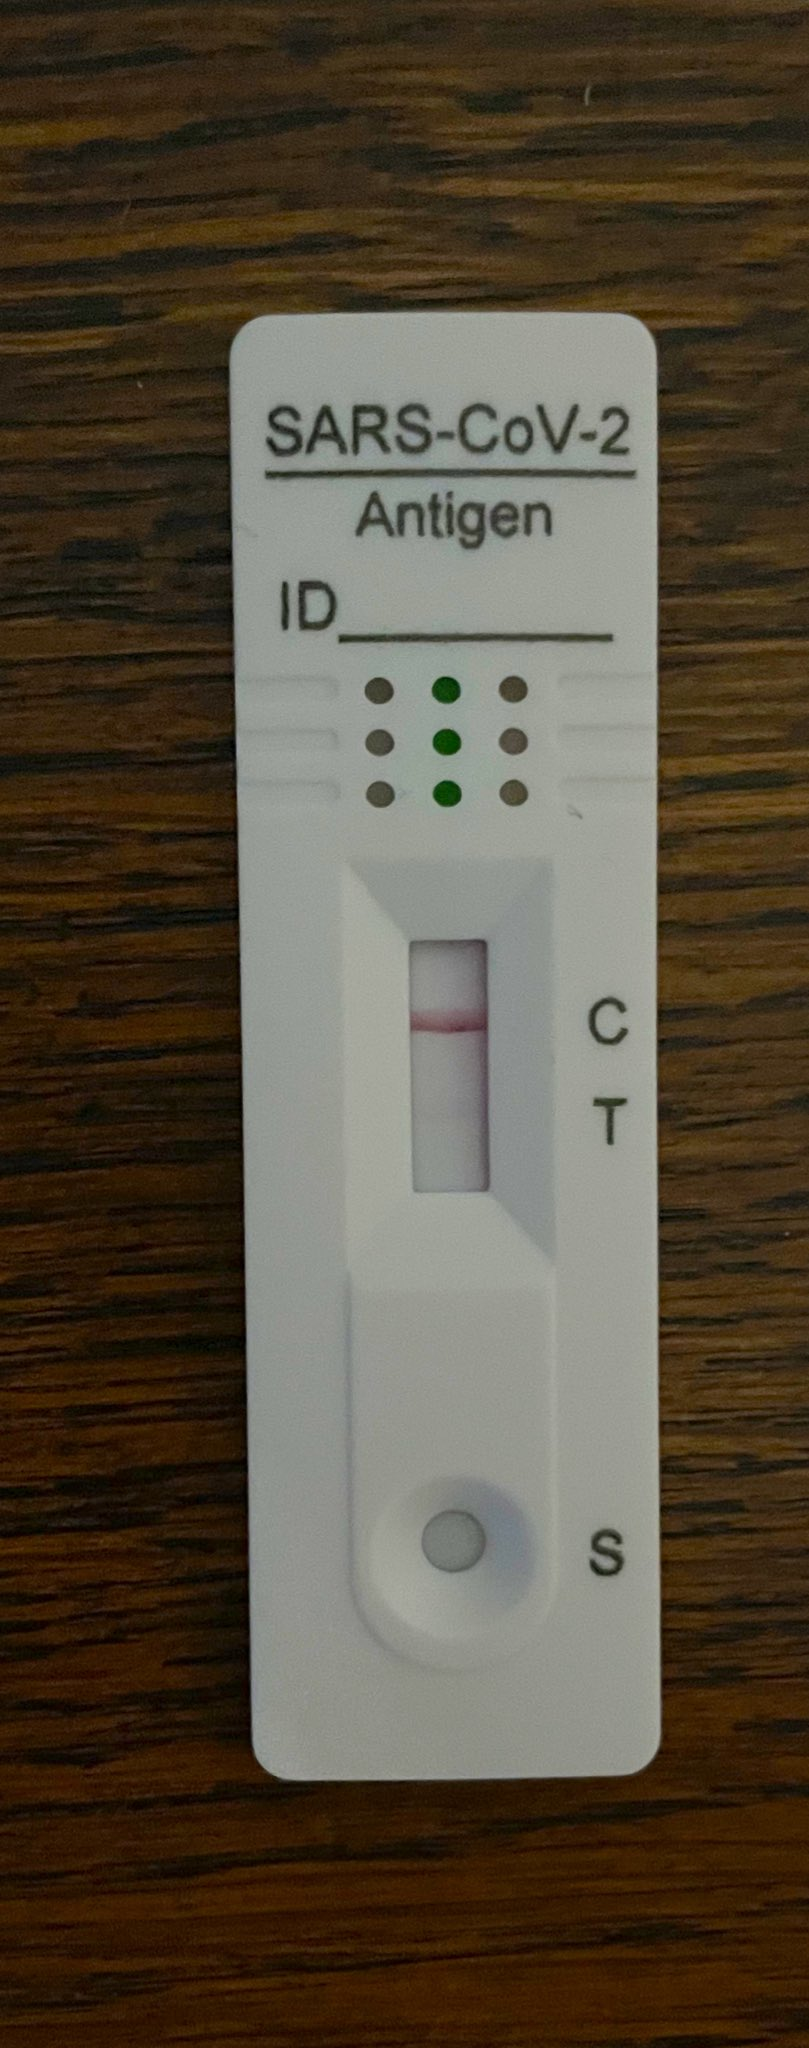positive: (375, 904, 527, 1237)
